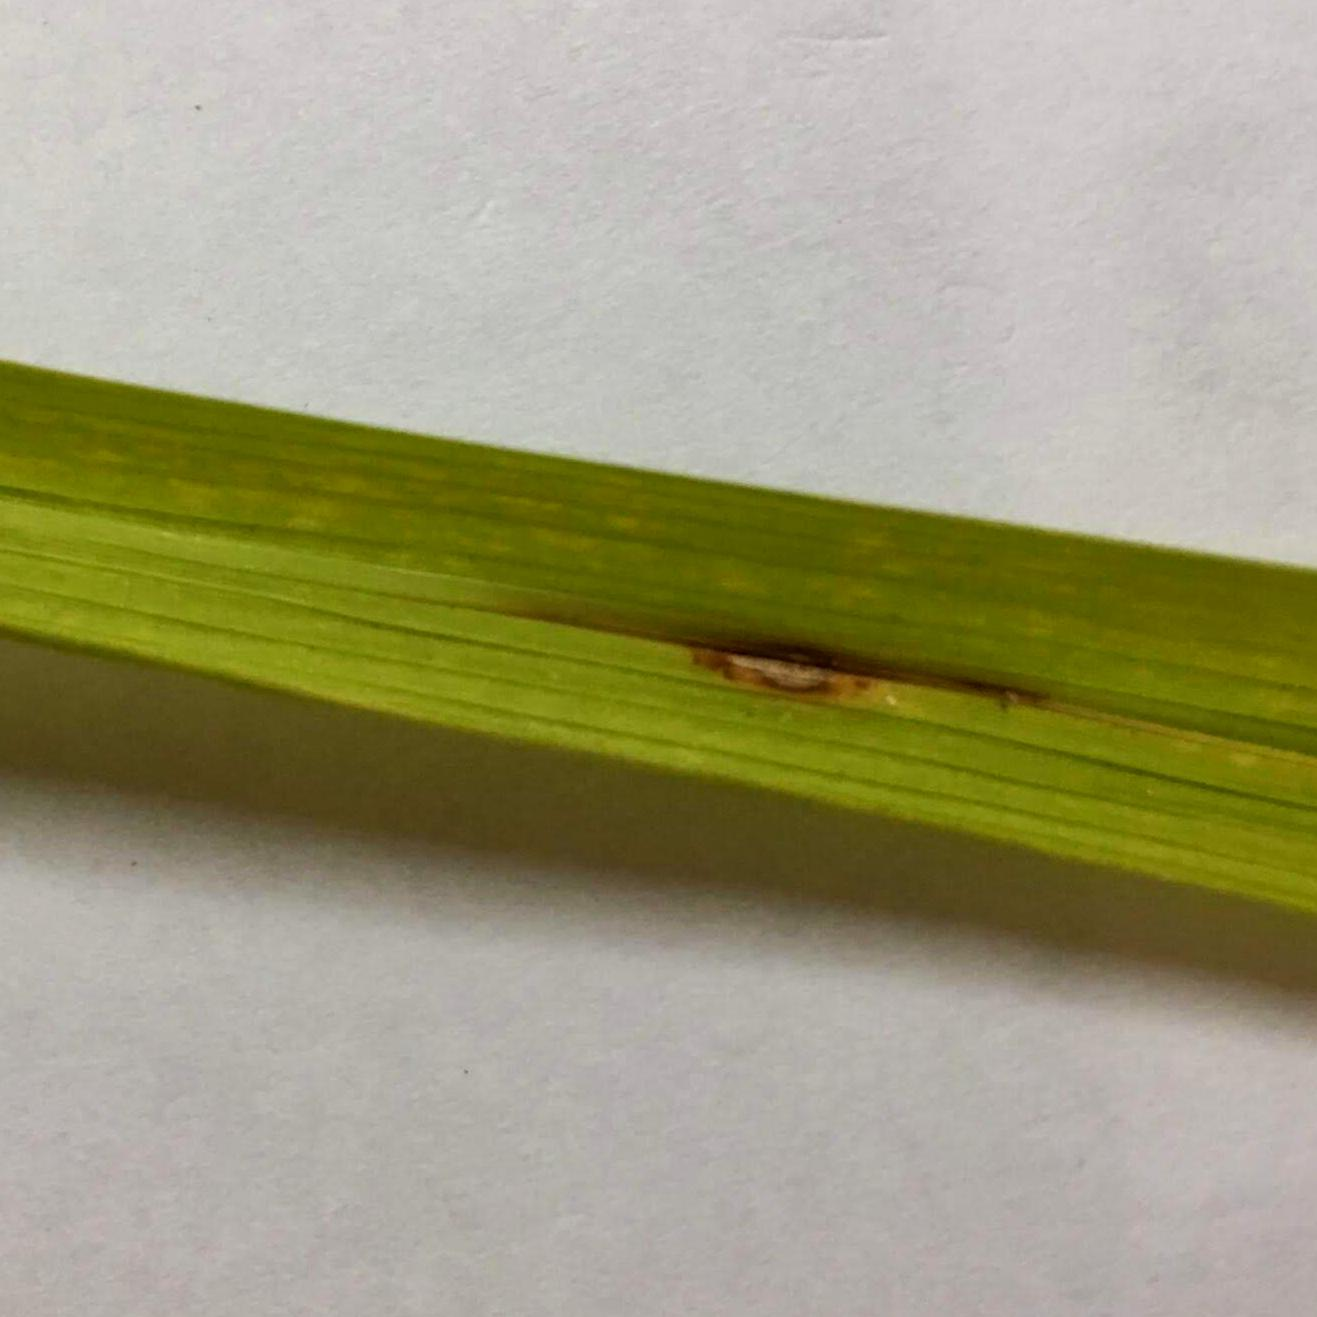1 RiceBlast: (616, 499, 953, 757)
